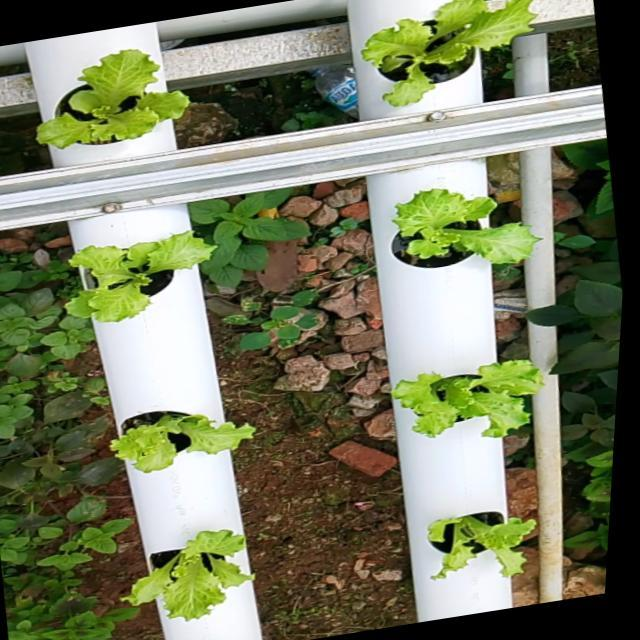Baby: (371, 0, 547, 114), (45, 54, 198, 170), (74, 233, 227, 326), (393, 190, 544, 270), (395, 360, 547, 439), (126, 530, 259, 620), (114, 412, 259, 473), (432, 511, 540, 578)
